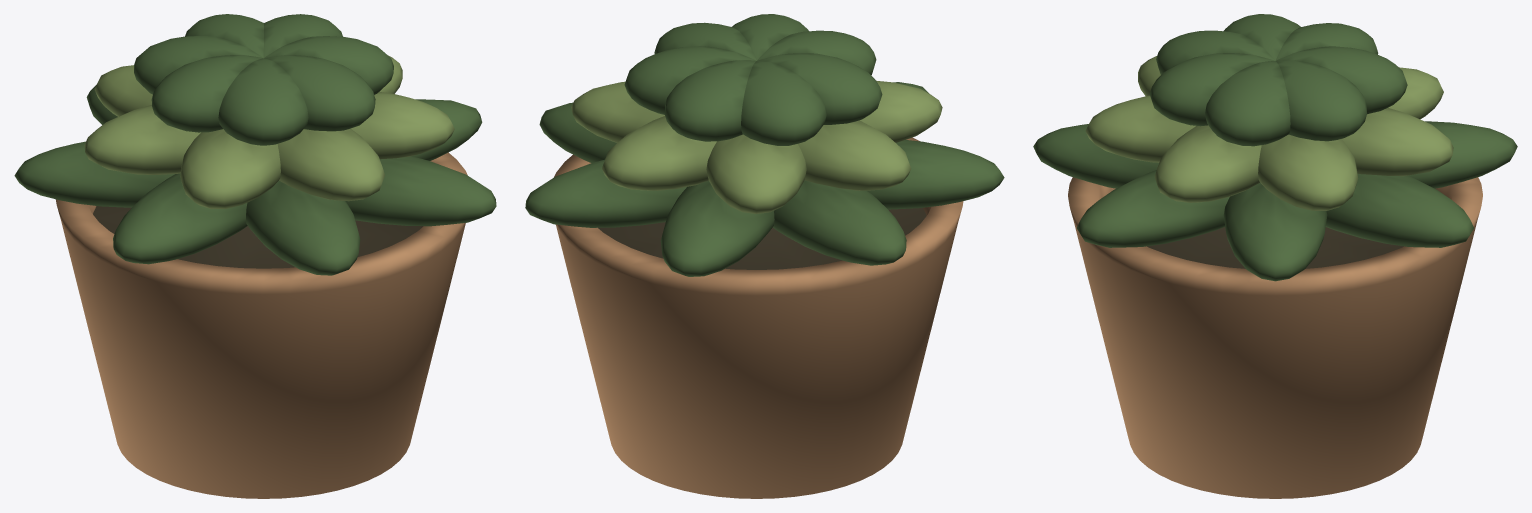
The model's file is succulent.glb.
3 views of the same model, side by side, from view 1: azimuth 30°, elevation 25°; view 2: azimuth 150°, elevation 25°; view 3: azimuth 270°, elevation 25° (orthographic).
Parts seen in each view (by area): view 1: Atelier_Succulent; view 2: Atelier_Succulent; view 3: Atelier_Succulent.
Part boxes in pixels (x1,y1,x2,y2): Atelier_Succulent: (14, 14, 496, 498); Atelier_Succulent: (525, 14, 1004, 498); Atelier_Succulent: (1033, 14, 1517, 498).
Size of the model in its own units: 0.3369 by 0.303 by 0.3451.
